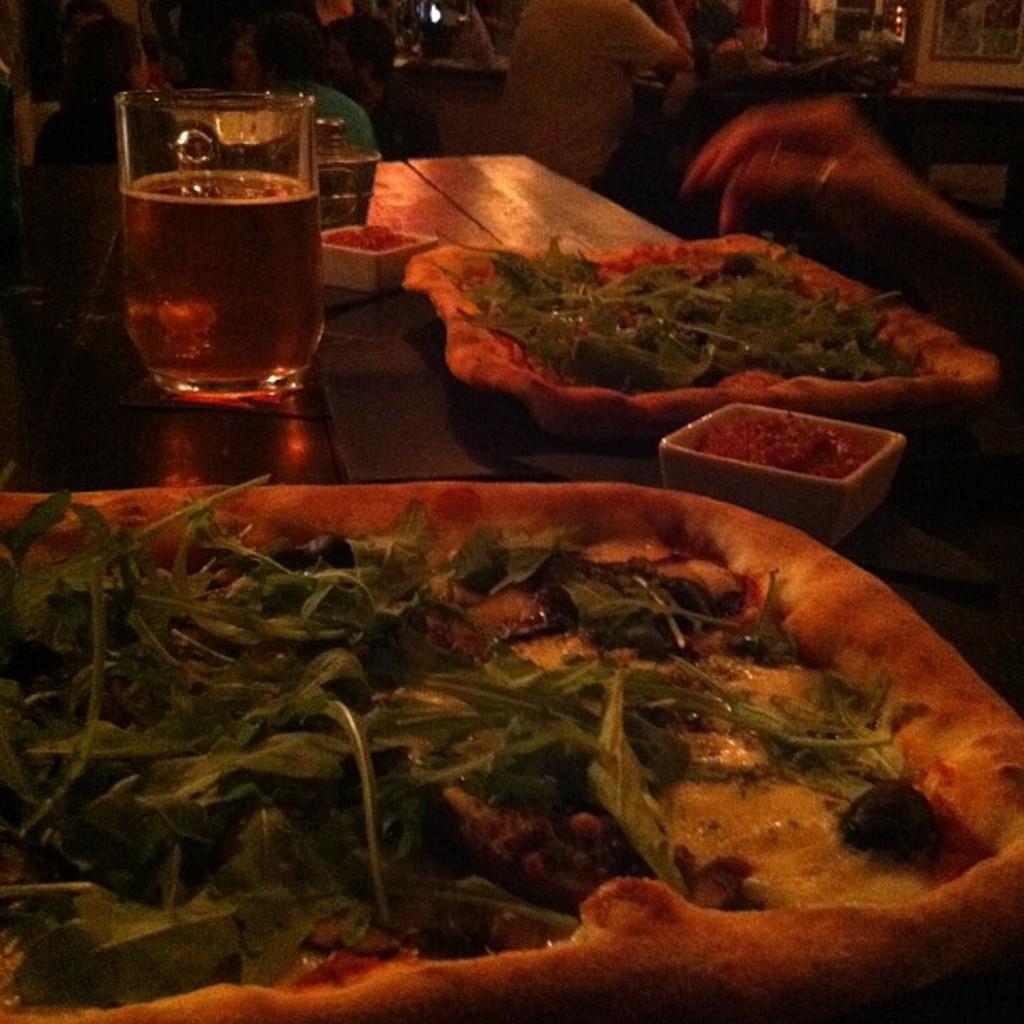Pizza: (61, 490, 1018, 988)
